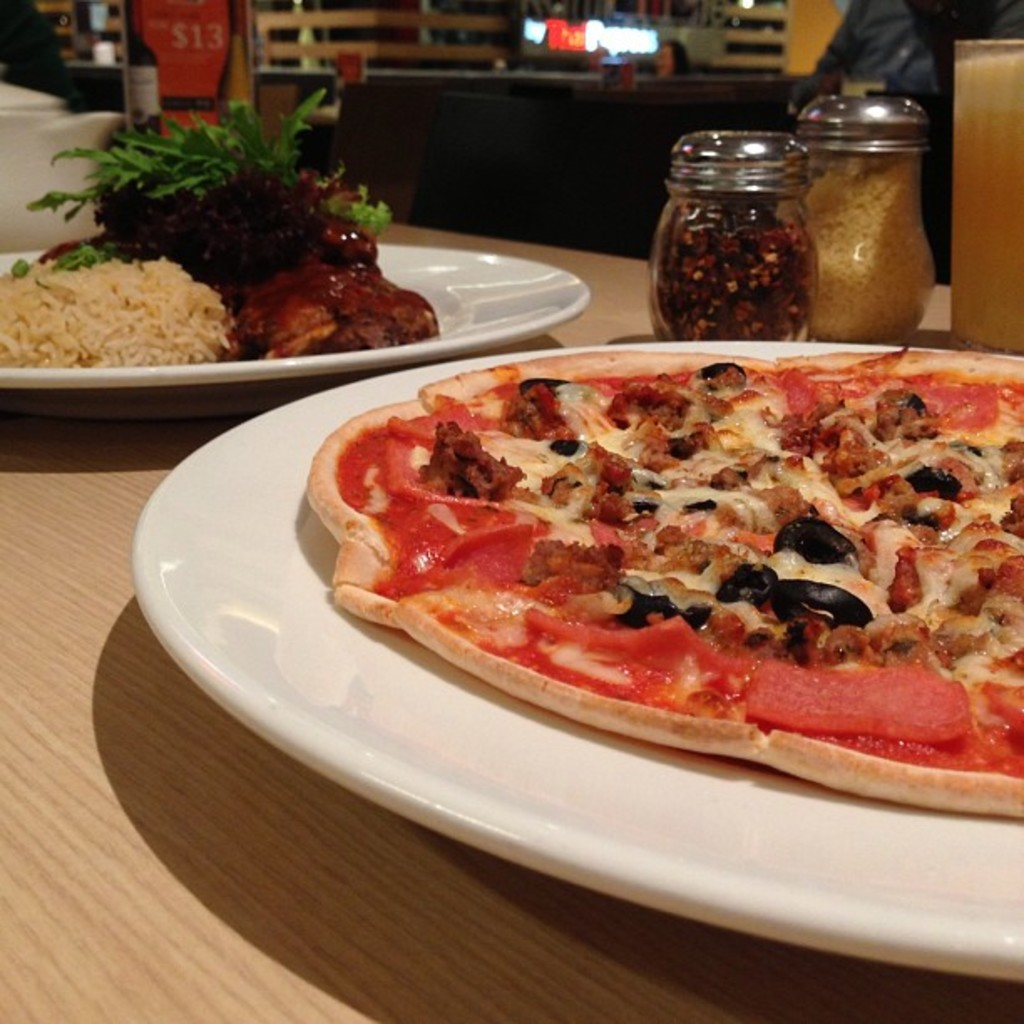Pizza: (304, 344, 1022, 816)
